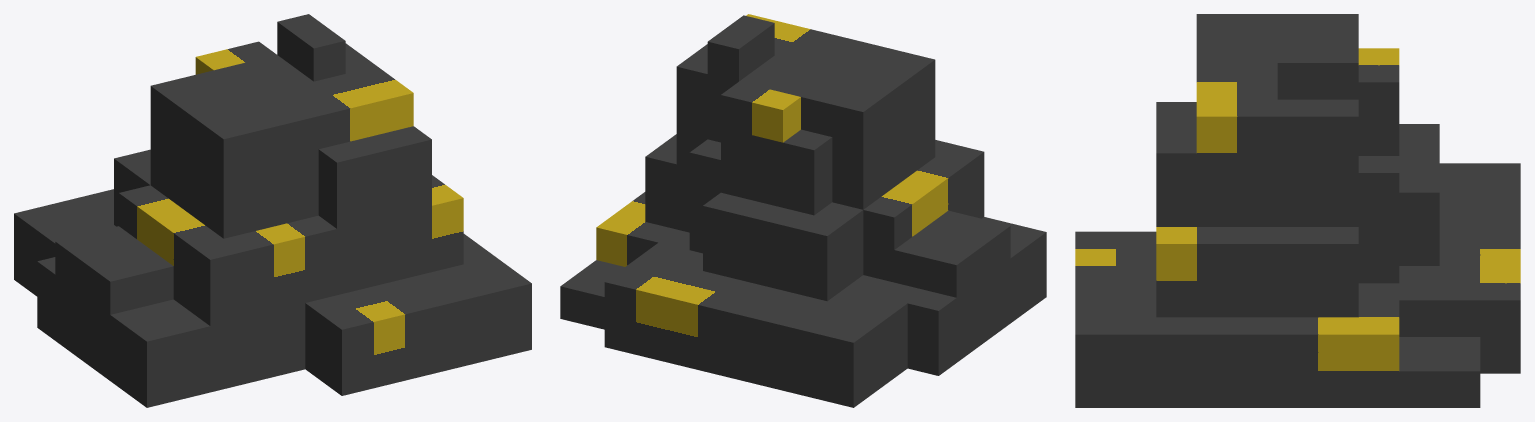
File: GoldOre.fbx
3 renders of one model, left to right at view 1: azimuth 30°, elevation 25°; view 2: azimuth 150°, elevation 25°; view 3: azimuth 270°, elevation 25°, orthographic. The views are drawn at different scales.
Visible parts, largest first — view 1: cube_12, cube_4, cube, cube_2, cube_10, cube_6, cube_1, cube_11, cube_5, cube_8; view 2: cube_1, cube_12, cube_5, cube_4, cube_2, cube_9, cube_6, cube_8, cube, cube_11, cube_3, cube_7; view 3: cube, cube_12, cube_1, cube_4, cube_3, cube_5, cube_7, cube_10, cube_11, cube_8, cube_9.
Boxes of the visible parts, <box> form: cube_12: <box>150,43,413,238</box>; cube_4: <box>119,175,463,325</box>; cube: <box>305,234,531,395</box>; cube_2: <box>37,257,305,407</box>; cube_10: <box>318,126,431,228</box>; cube_6: <box>55,226,173,314</box>; cube_1: <box>14,189,115,296</box>; cube_11: <box>277,14,345,81</box>; cube_5: <box>114,149,150,226</box>; cube_8: <box>195,41,276,74</box>; cube_1: <box>604,242,907,407</box>; cube_12: <box>676,14,935,209</box>; cube_5: <box>703,192,863,301</box>; cube_4: <box>645,134,984,282</box>; cube_2: <box>845,217,1046,375</box>; cube_9: <box>721,127,832,215</box>; cube_6: <box>894,210,1010,297</box>; cube_8: <box>721,82,800,142</box>; cube: <box>596,192,689,266</box>; cube_11: <box>707,15,774,81</box>; cube_3: <box>560,260,624,329</box>; cube_7: <box>689,139,720,253</box>; cube: <box>1075,231,1399,407</box>; cube_12: <box>1196,14,1358,226</box>; cube_1: <box>1399,163,1520,373</box>; cube_4: <box>1156,227,1358,317</box>; cube_3: <box>1399,337,1480,407</box>; cube_5: <box>1399,124,1439,265</box>; cube_7: <box>1358,156,1399,283</box>; cube_10: <box>1156,102,1196,226</box>; cube_11: <box>1277,45,1358,99</box>; cube_8: <box>1358,48,1399,119</box>; cube_9: <box>1358,119,1399,155</box>.
Bounding box in the file's own units: 68.75 × 50 × 68.75.
1 material, 1 textured.
